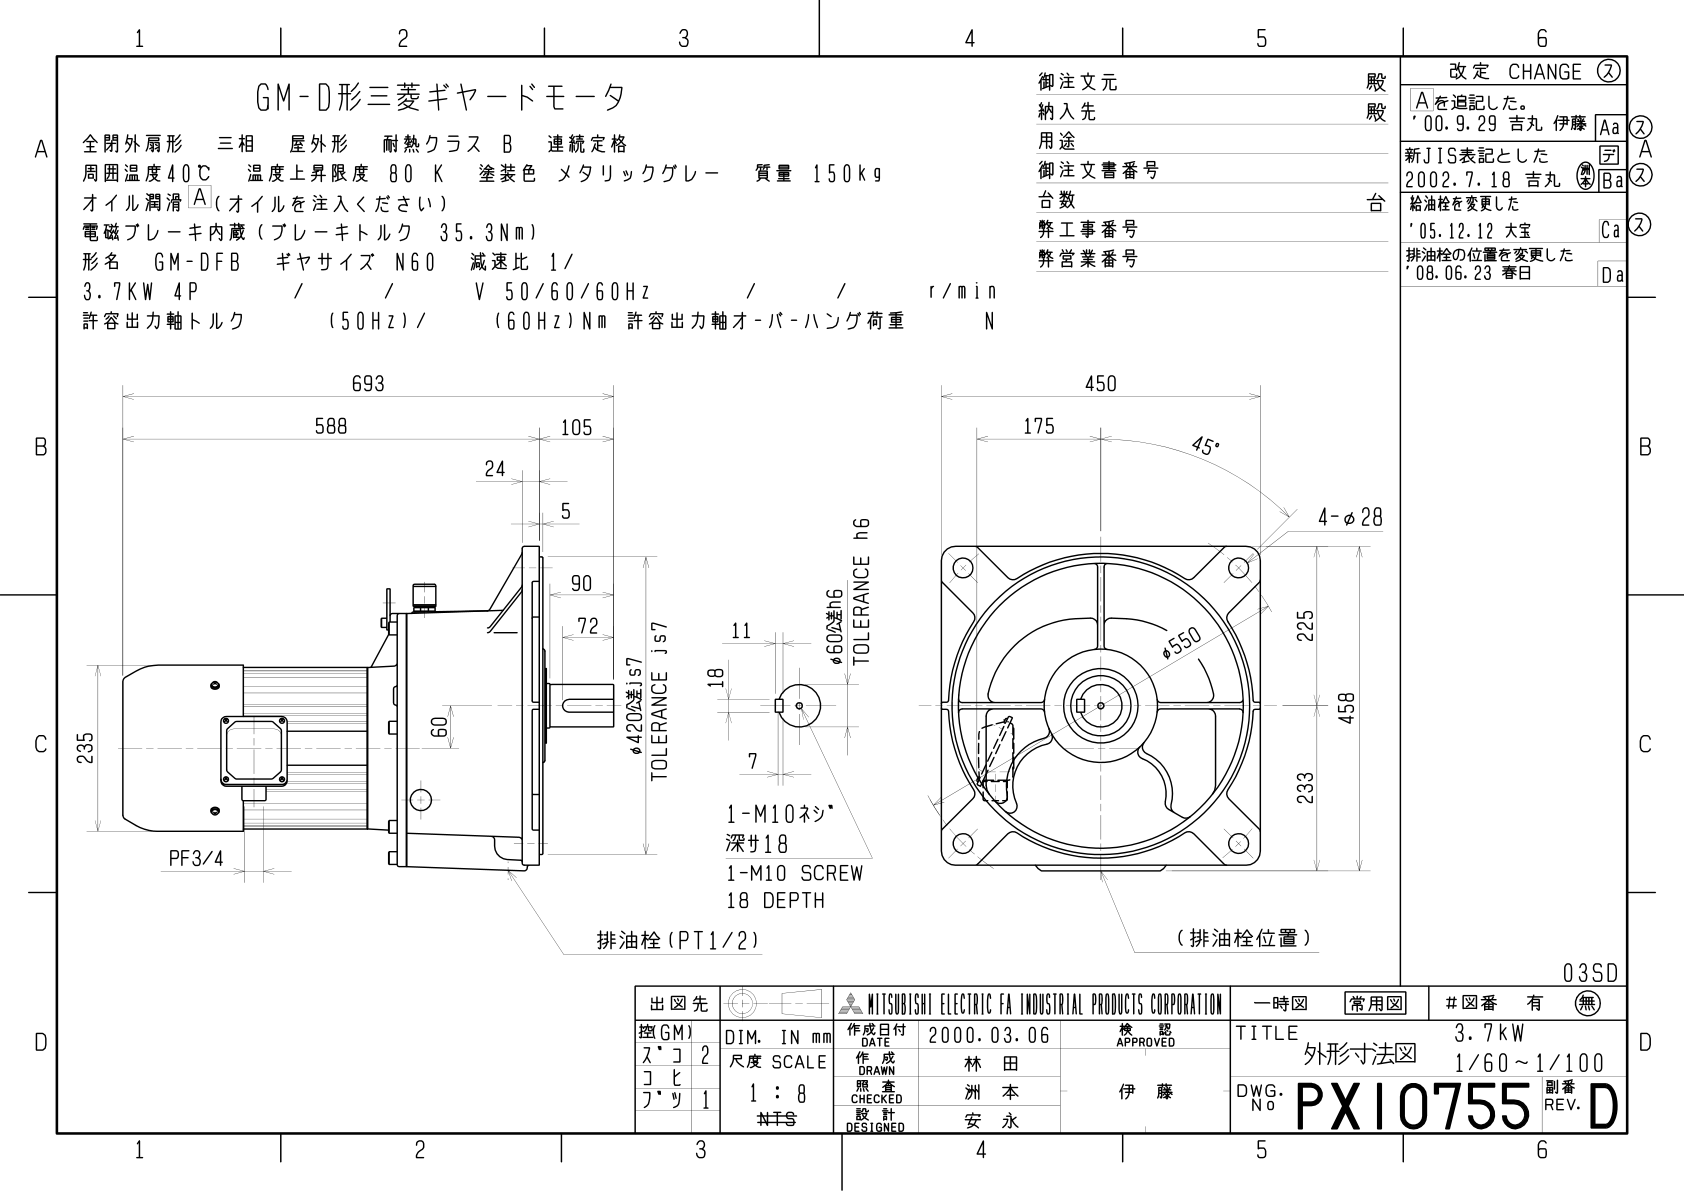GM_D_屋外＿三相_フランジ: (63, 347, 1386, 973)
